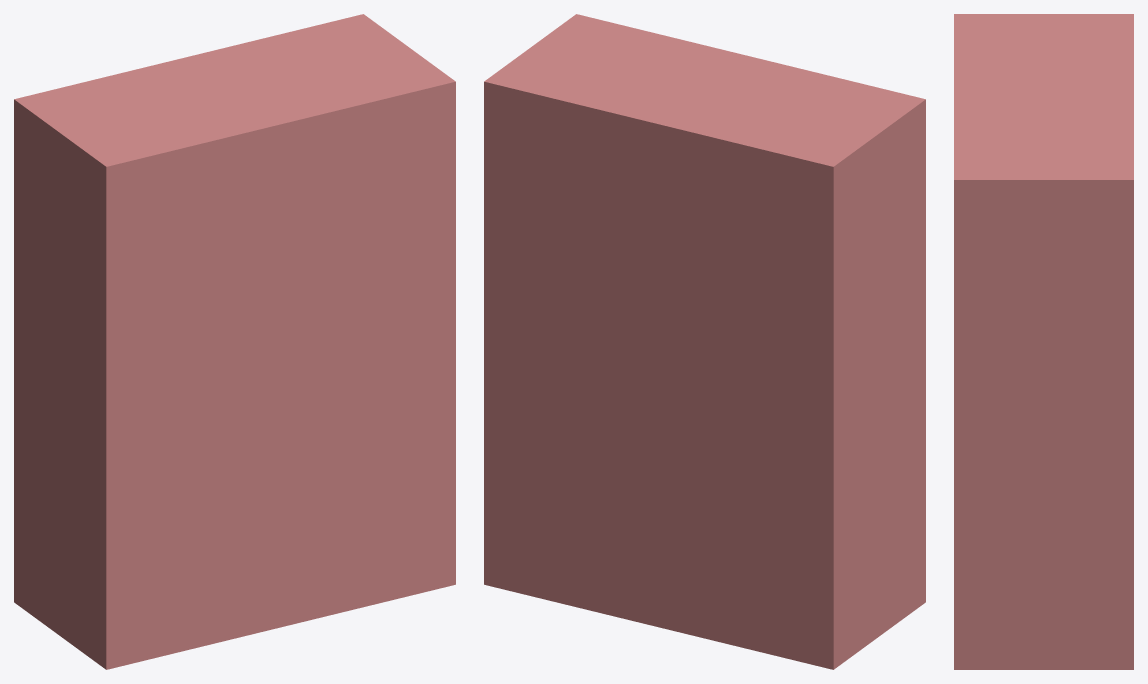
File: 199500_occ.glb
3 views of the same model, side by side, from view 1: azimuth 30°, elevation 25°; view 2: azimuth 150°, elevation 25°; view 3: azimuth 270°, elevation 25° (orthographic). The views are drawn at different scales.
Visible parts, largest first — view 1: world; view 2: world; view 3: world.
Part boxes in pixels (x1,y1,x2,y2): world: [14, 14, 455, 669]; world: [484, 14, 925, 669]; world: [954, 14, 1133, 669].
Size of the model in its own units: 6.88 by 9.46 by 3.15.
